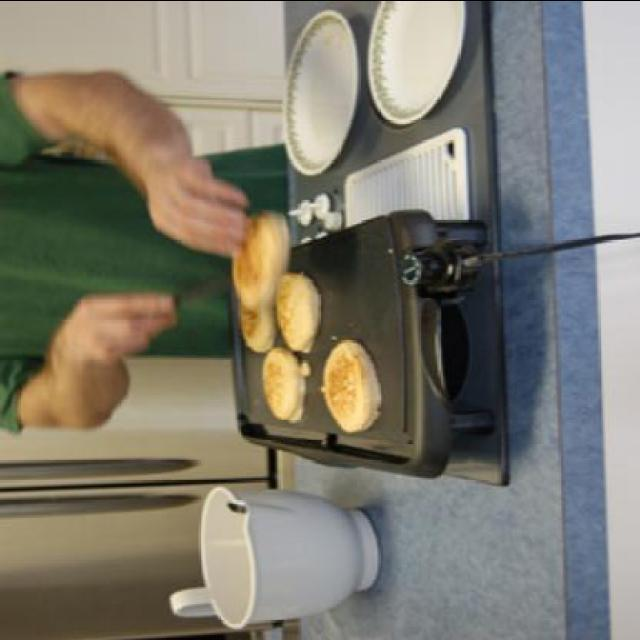Pancake: (228, 208, 292, 310), (320, 341, 380, 430), (255, 347, 312, 425), (277, 272, 325, 356), (234, 294, 282, 354)
